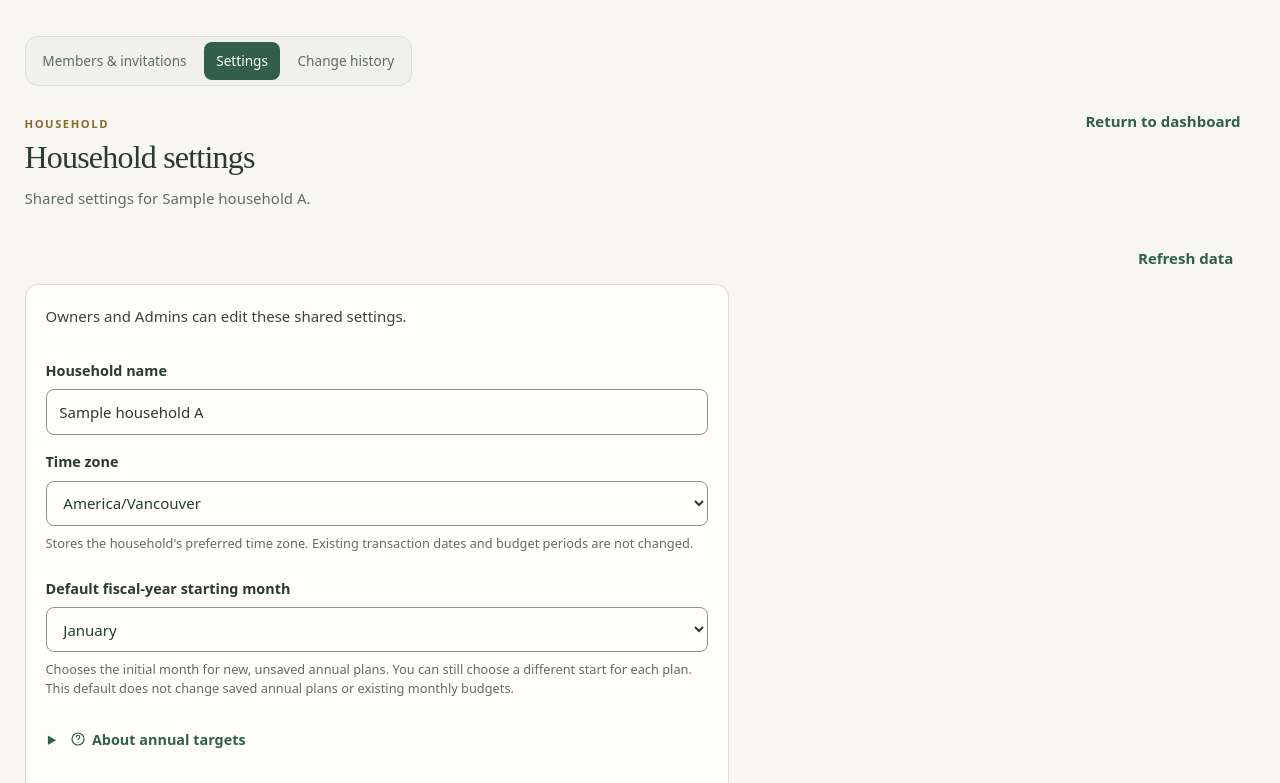
it: household settings feedback and editing › explains locked currency while allowing name, time zone and fiscal edits
The image size is (1280, 783).
Replace the text in the field labelled "Household name" with "Renamed" at (376, 412), box [46,389,708,435]
(page scrolled)
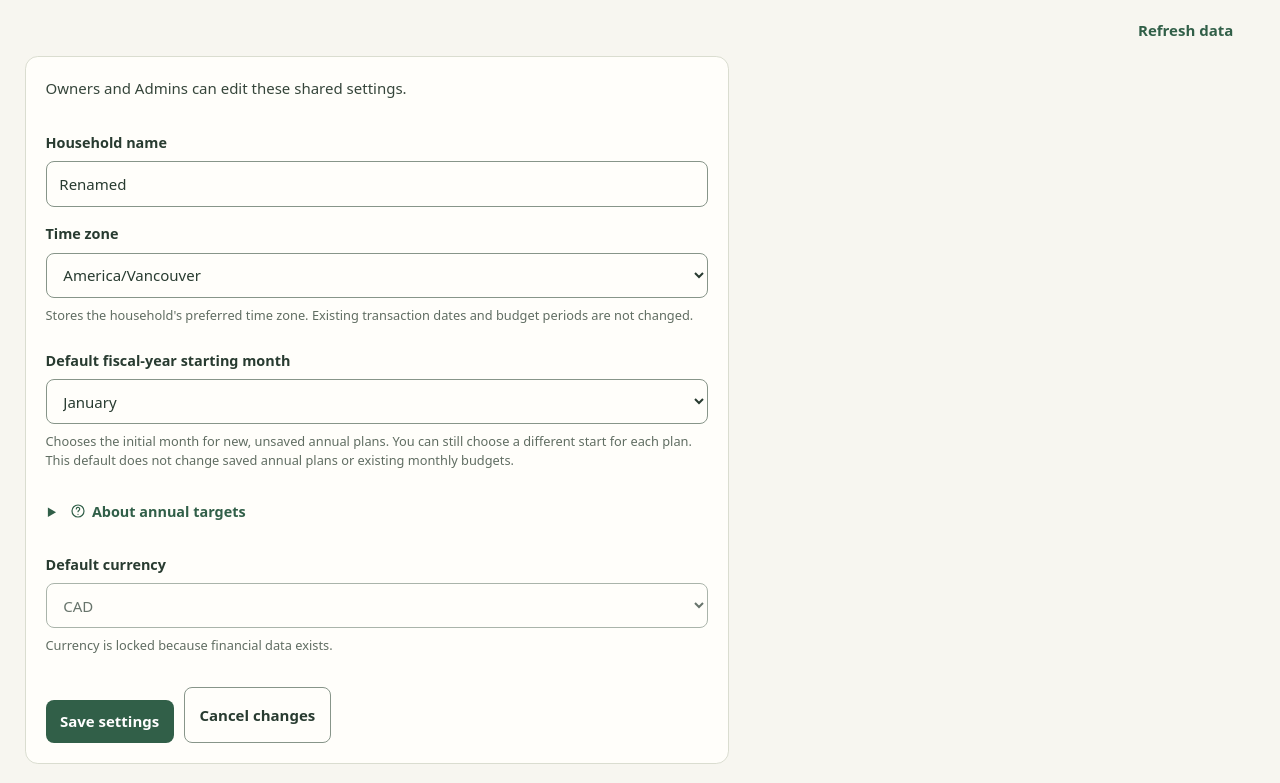
Result: the button "Save settings" is enabled at [46,700,174,743]
